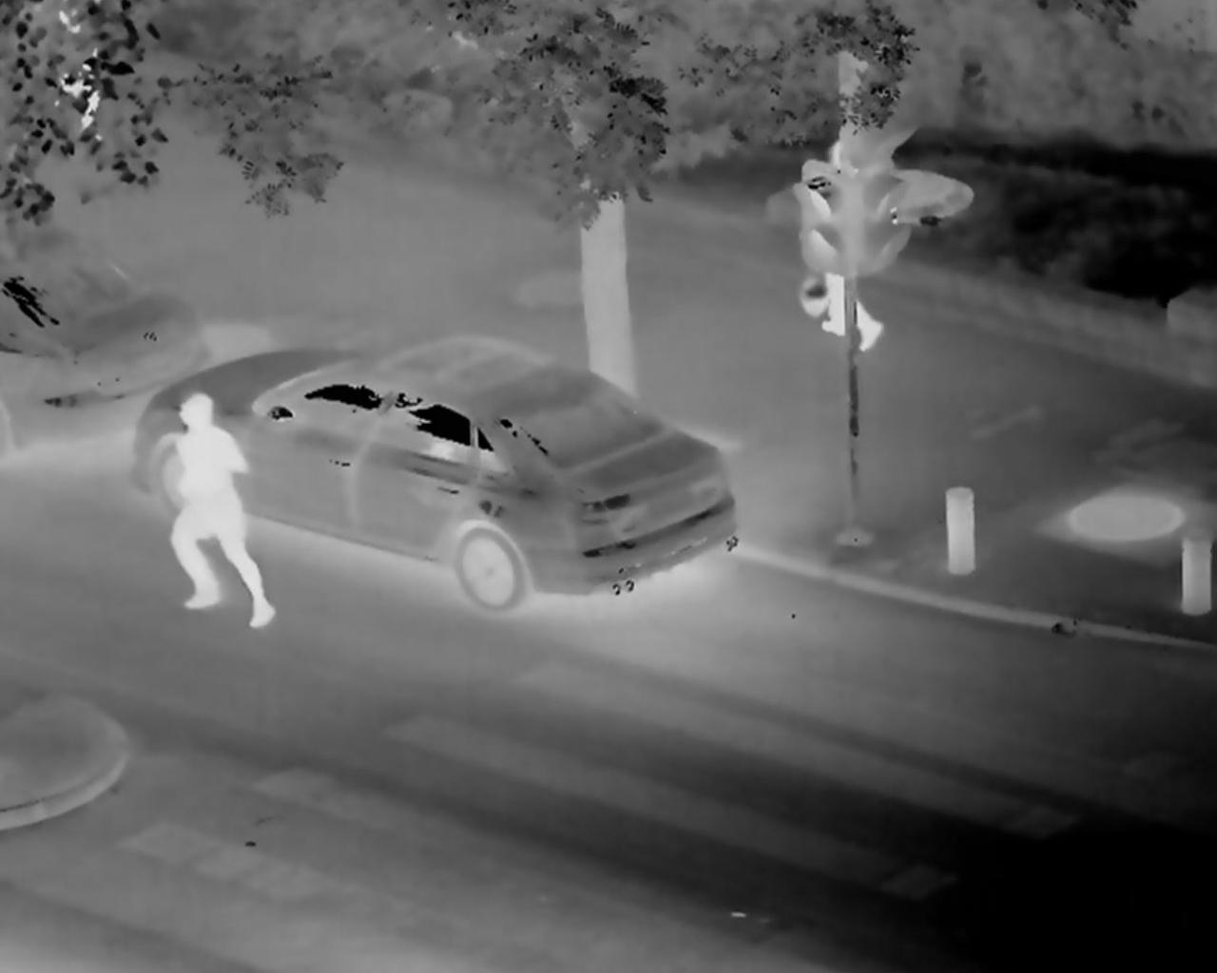person: (138, 375, 282, 629), (809, 255, 890, 353)
